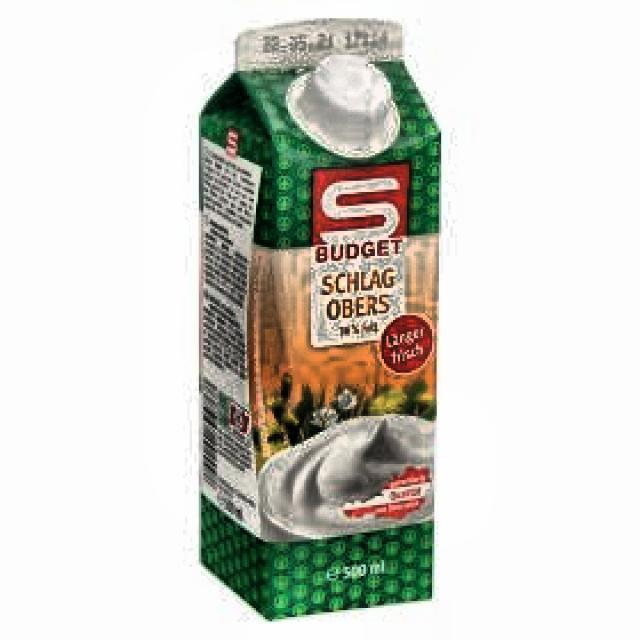cardboard: (194, 16, 441, 620)
